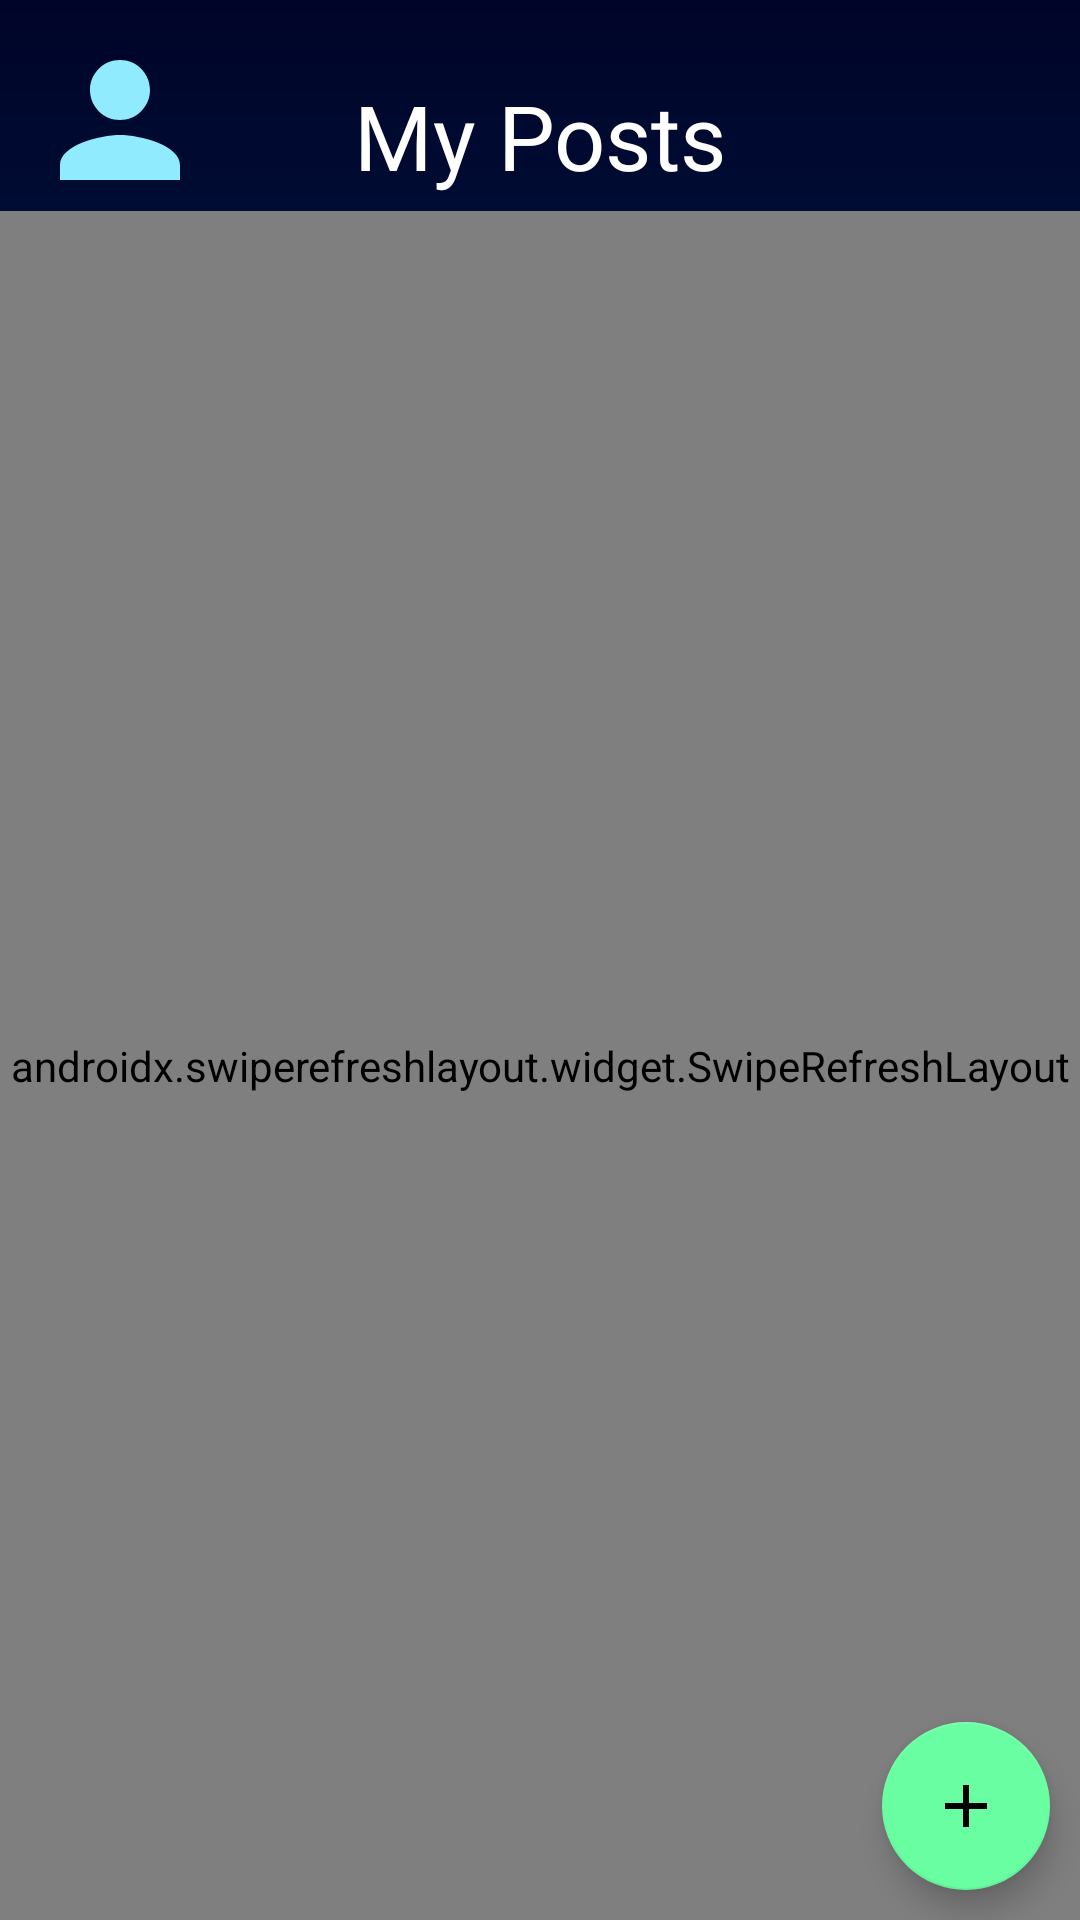

Icon bounding boxes for this 1080w x 1920h phone screenshot, format (x1, y1, x2, y2):
add: (882, 1722, 1050, 1890)
person: (60, 60, 180, 180)
